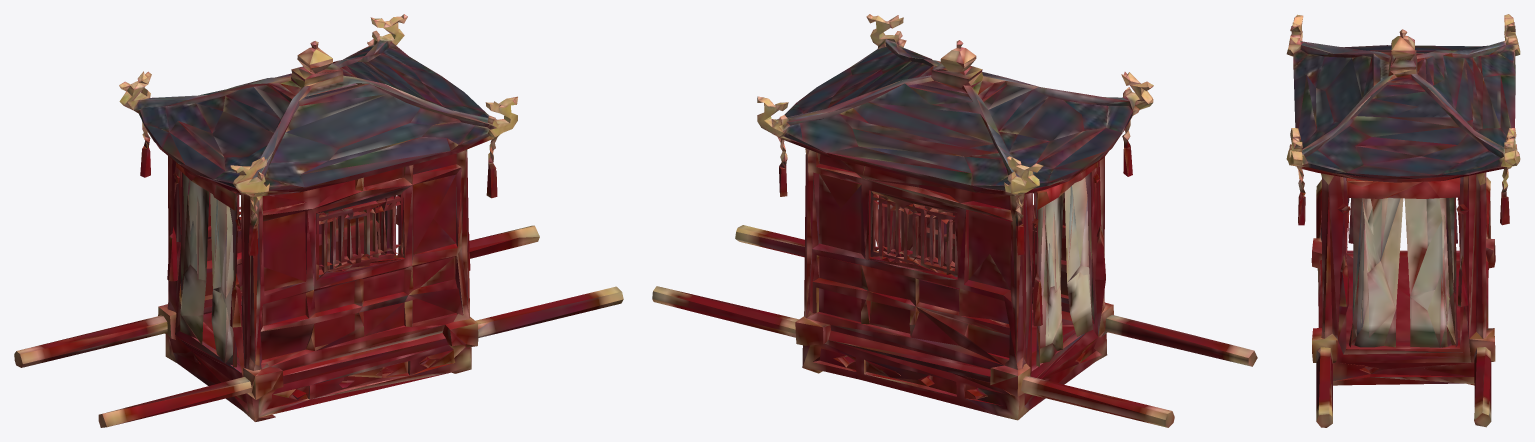
The model's file is gama.glb.
3 renders of one model, left to right at view 1: azimuth 30°, elevation 25°; view 2: azimuth 150°, elevation 25°; view 3: azimuth 270°, elevation 25°, orthographic. The views are drawn at different scales.
Bounding box in the file's own units: 1.9 × 1.15 × 0.789.
1 material, 1 textured.
